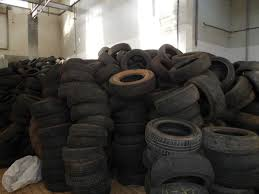tire: (142, 154, 216, 194), (144, 117, 204, 155), (183, 73, 228, 123), (201, 126, 259, 155), (107, 68, 158, 96), (171, 54, 214, 82), (119, 49, 153, 77)
